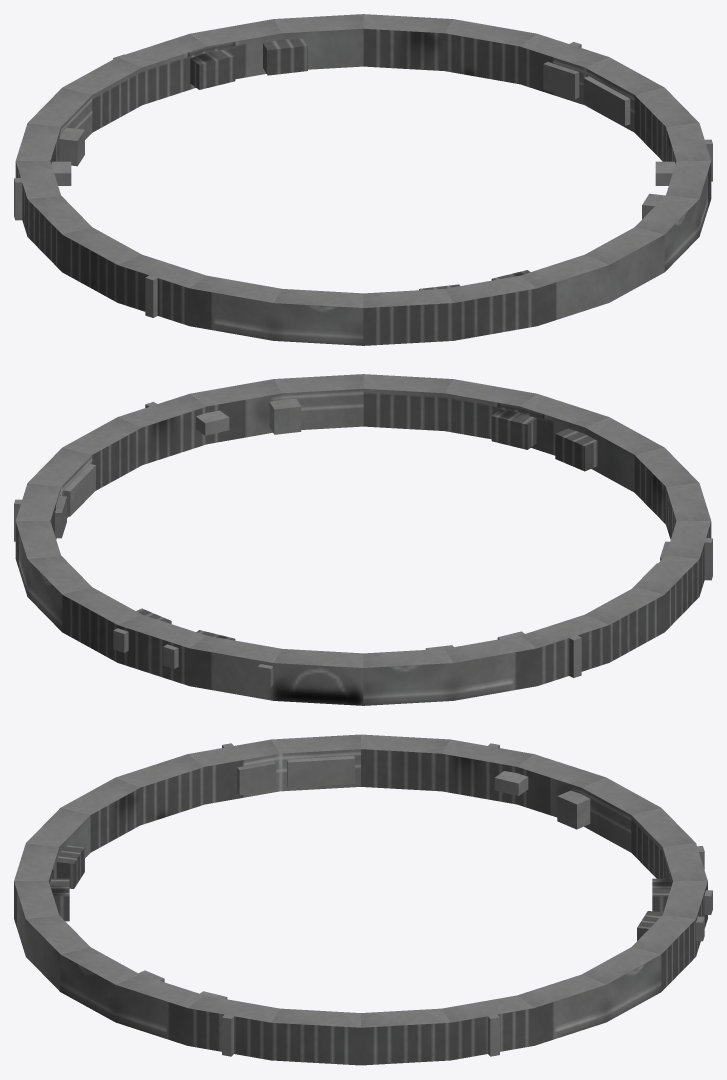
The model's file is control core.obj.
3 views of the same model, one above another, from view 1: azimuth 30°, elevation 25°; view 2: azimuth 150°, elevation 25°; view 3: azimuth 270°, elevation 25° (orthographic).
Visible parts, largest first — view 1: 1; view 2: 1; view 3: 1.
Part boxes in pixels (x1=…): 1: x1=14, y1=14, x2=712, y2=345; 1: x1=14, y1=374, x2=712, y2=705; 1: x1=14, y1=734, x2=712, y2=1065.
Bounding box in the file's own units: 2.5 × 0.15 × 2.52.
